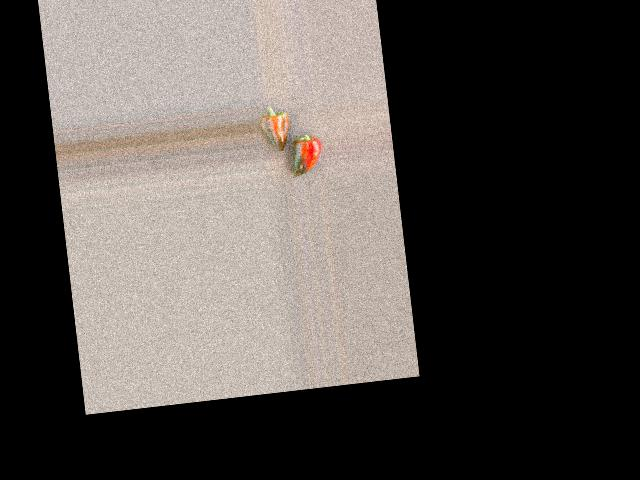bell_pepper: (286, 118, 326, 179)
